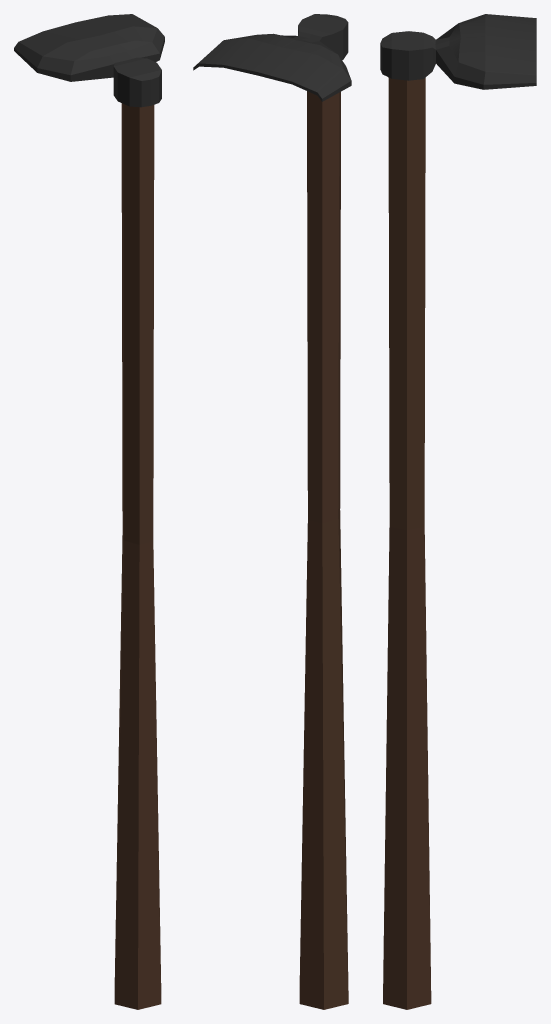
The picture shows the model from 3 angles, left to right: view 1: azimuth 30°, elevation 25°; view 2: azimuth 150°, elevation 25°; view 3: azimuth 270°, elevation 25°; orthographic projection. The views are drawn at different scales.
Parts seen in each view (by area): view 1: 农具_农具_1; view 2: 农具_农具_1; view 3: 农具_农具_1.
Boxes of the visible parts, x1,y1,x2,y2 form: 农具_农具_1: (14, 14, 164, 1009); 农具_农具_1: (193, 14, 351, 1009); 农具_农具_1: (380, 14, 536, 1009).
Bounding box in the file's own units: 28.85 × 29.63 × 202.
